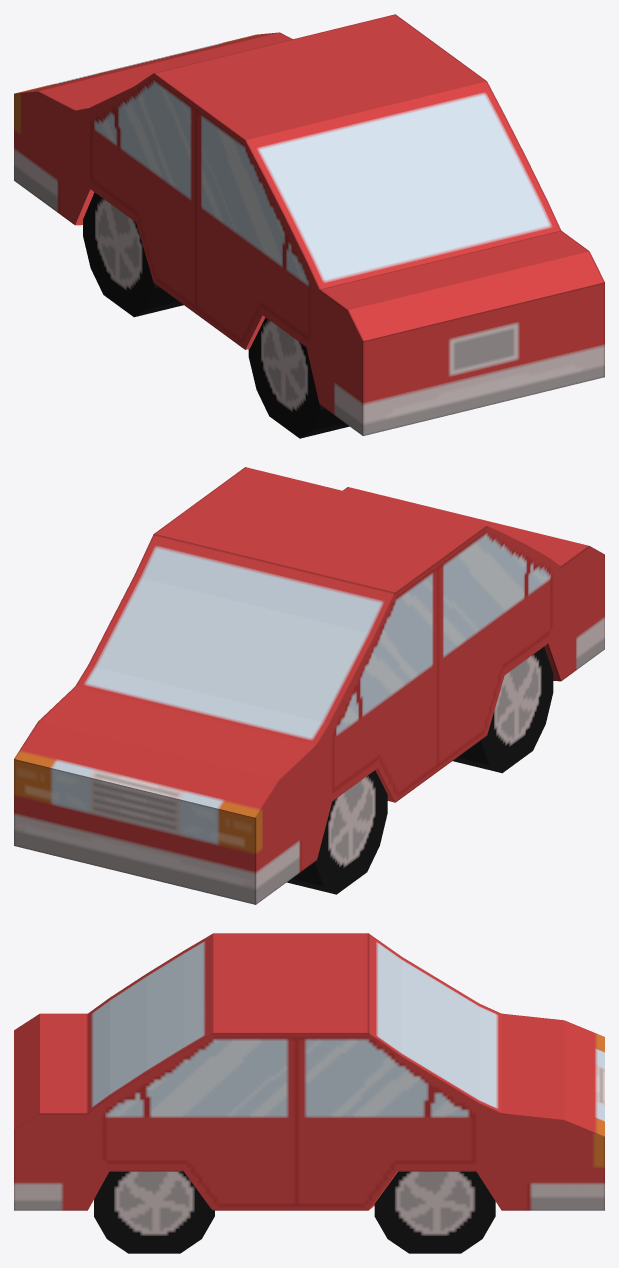
Rendered from unity_car.fbx.
The picture shows the model from 3 angles, top to bottom: view 1: azimuth 30°, elevation 25°; view 2: azimuth 150°, elevation 25°; view 3: azimuth 270°, elevation 25°; orthographic projection. The views are drawn at different scales.
Parts seen in each view (by area): view 1: cuboid, cuboid_1, cuboid_3; view 2: cuboid, cuboid_1, cuboid_3; view 3: cuboid, cuboid_2, cuboid_4.
Boxes of the visible parts, x1=… form: cuboid: x1=14, y1=14, x2=604, y2=435; cuboid_1: x1=83, y1=192, x2=183, y2=317; cuboid_3: x1=248, y1=317, x2=349, y2=438; cuboid: x1=14, y1=467, x2=604, y2=904; cuboid_1: x1=287, y1=770, x2=387, y2=894; cuboid_3: x1=453, y1=647, x2=553, y2=773; cuboid: x1=14, y1=933, x2=604, y2=1210; cuboid_2: x1=374, y1=1171, x2=495, y2=1253; cuboid_4: x1=94, y1=1171, x2=214, y2=1253.
Bounding box in the file's own units: 100 × 104 × 250.
Materials: 1 (1 with a texture image).
